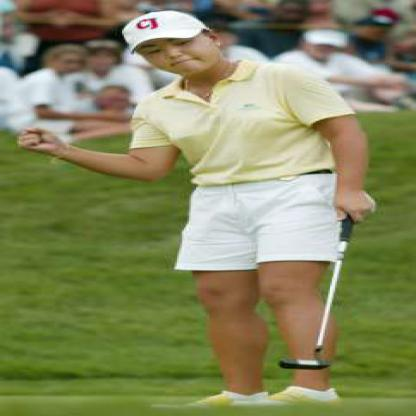face: (138, 20, 217, 79), (54, 48, 89, 76), (84, 46, 120, 73), (309, 36, 341, 60)
